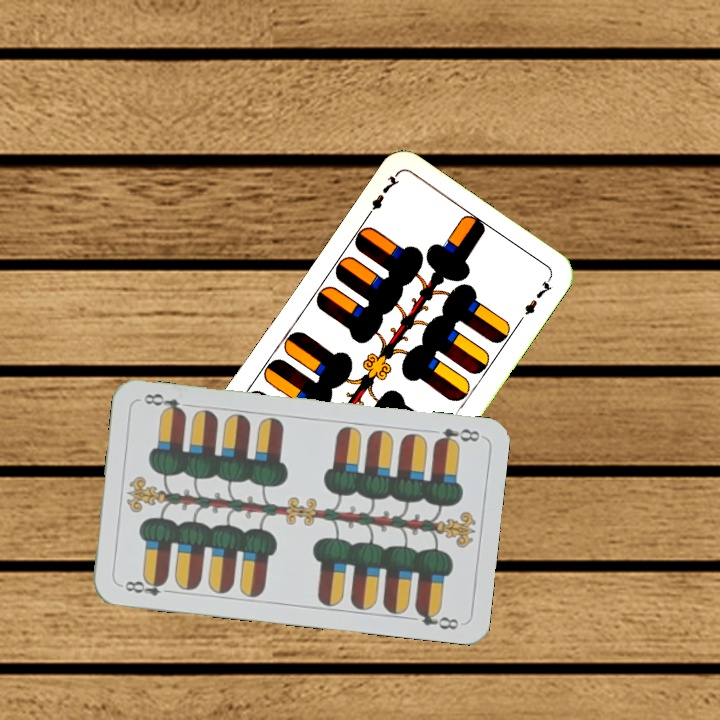E7: (361, 170, 403, 222)
E8: (120, 574, 175, 598), (431, 424, 483, 448)
